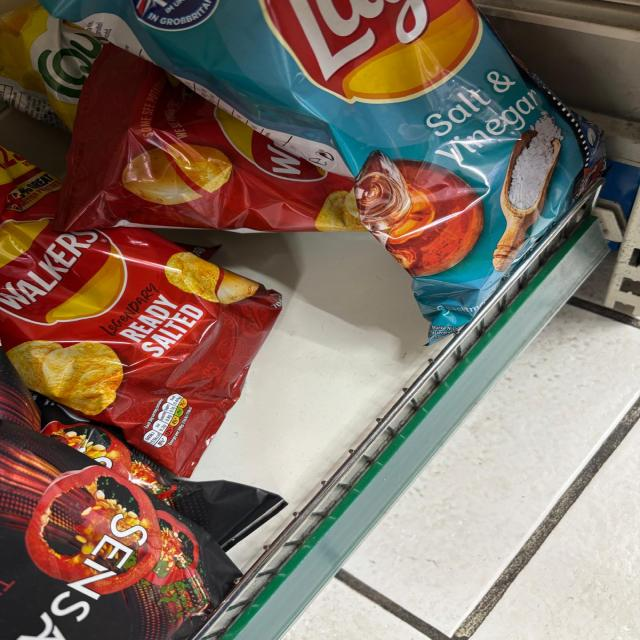crisp: (107, 0, 602, 300), (11, 180, 282, 478), (75, 30, 389, 236), (16, 394, 256, 636)
